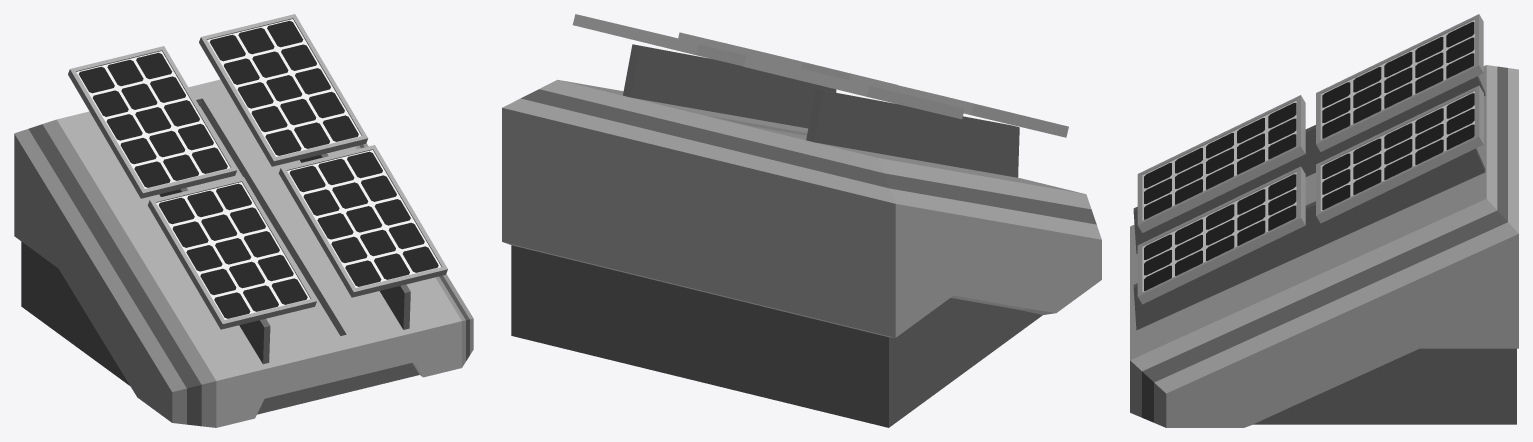
The model's file is solarPanelStructure.glb.
The picture shows the model from 3 angles, left to right: view 1: azimuth 30°, elevation 25°; view 2: azimuth 150°, elevation 25°; view 3: azimuth 270°, elevation 25°; orthographic projection. The views are drawn at different scales.
Parts seen in each view (by area): view 1: SolarPanel_Structure; view 2: SolarPanel_Structure; view 3: SolarPanel_Structure.
Part boxes in pixels (x1,y1,x2,y2): SolarPanel_Structure: [14, 14, 473, 427]; SolarPanel_Structure: [502, 14, 1101, 427]; SolarPanel_Structure: [1130, 14, 1518, 427].
Bounding box in the file's own units: 11 × 8.44 × 11.
Materials: 1 (1 with a texture image).
